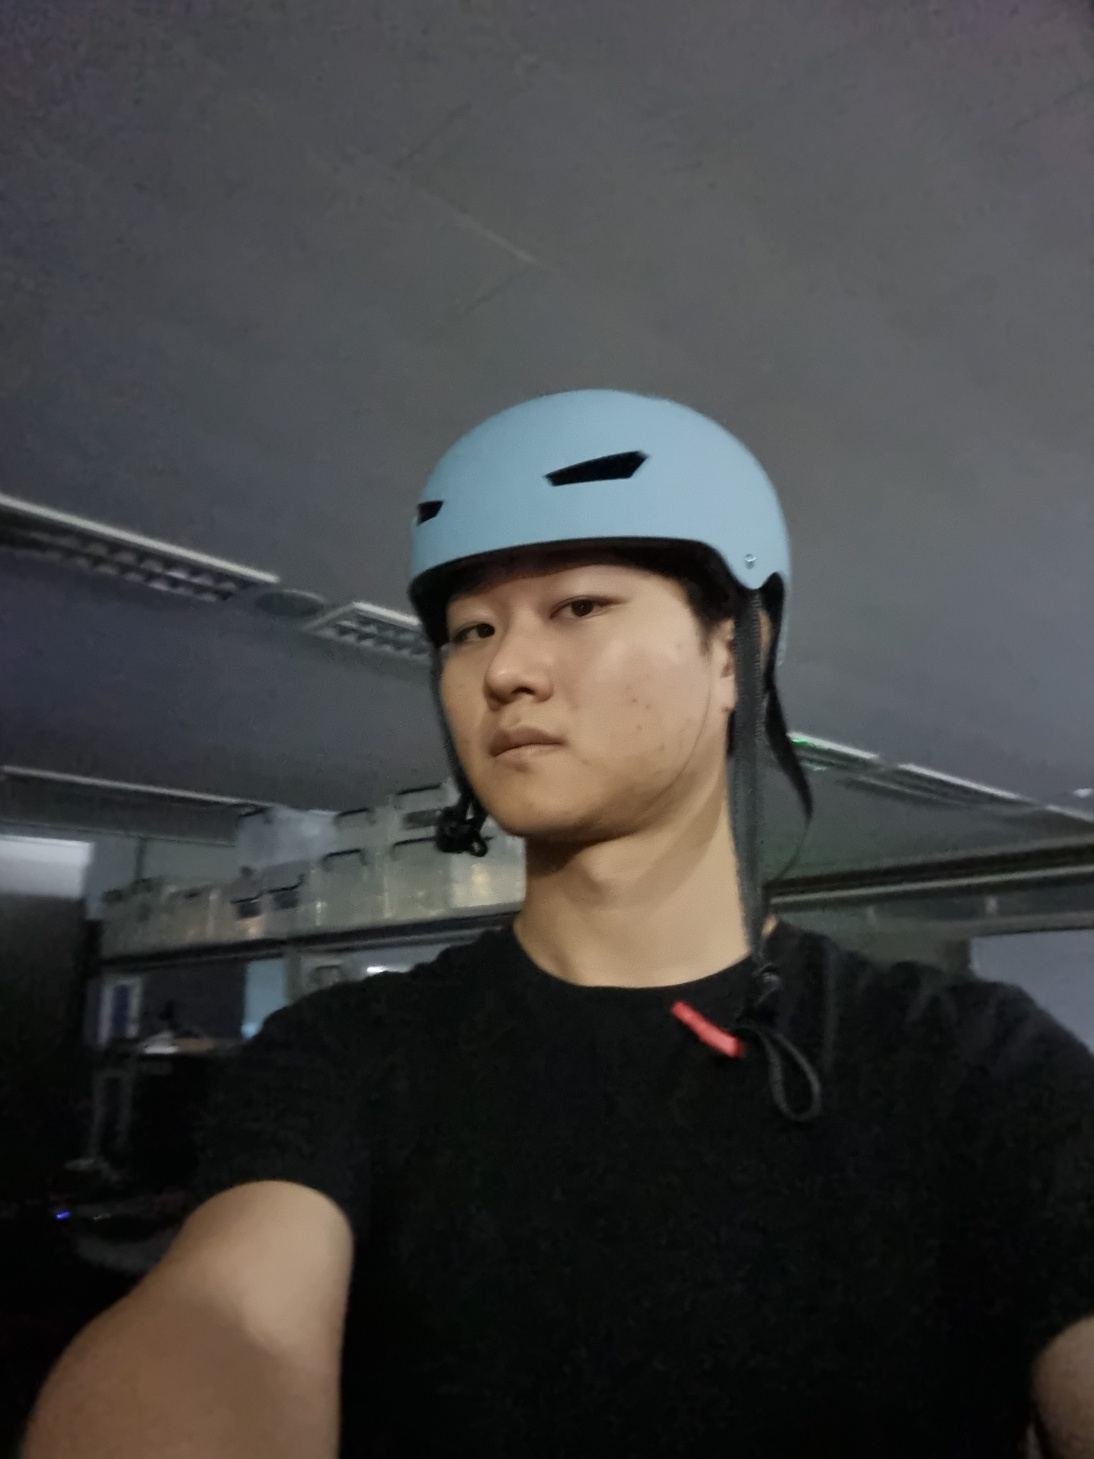Helmet: (331, 338, 835, 897)
